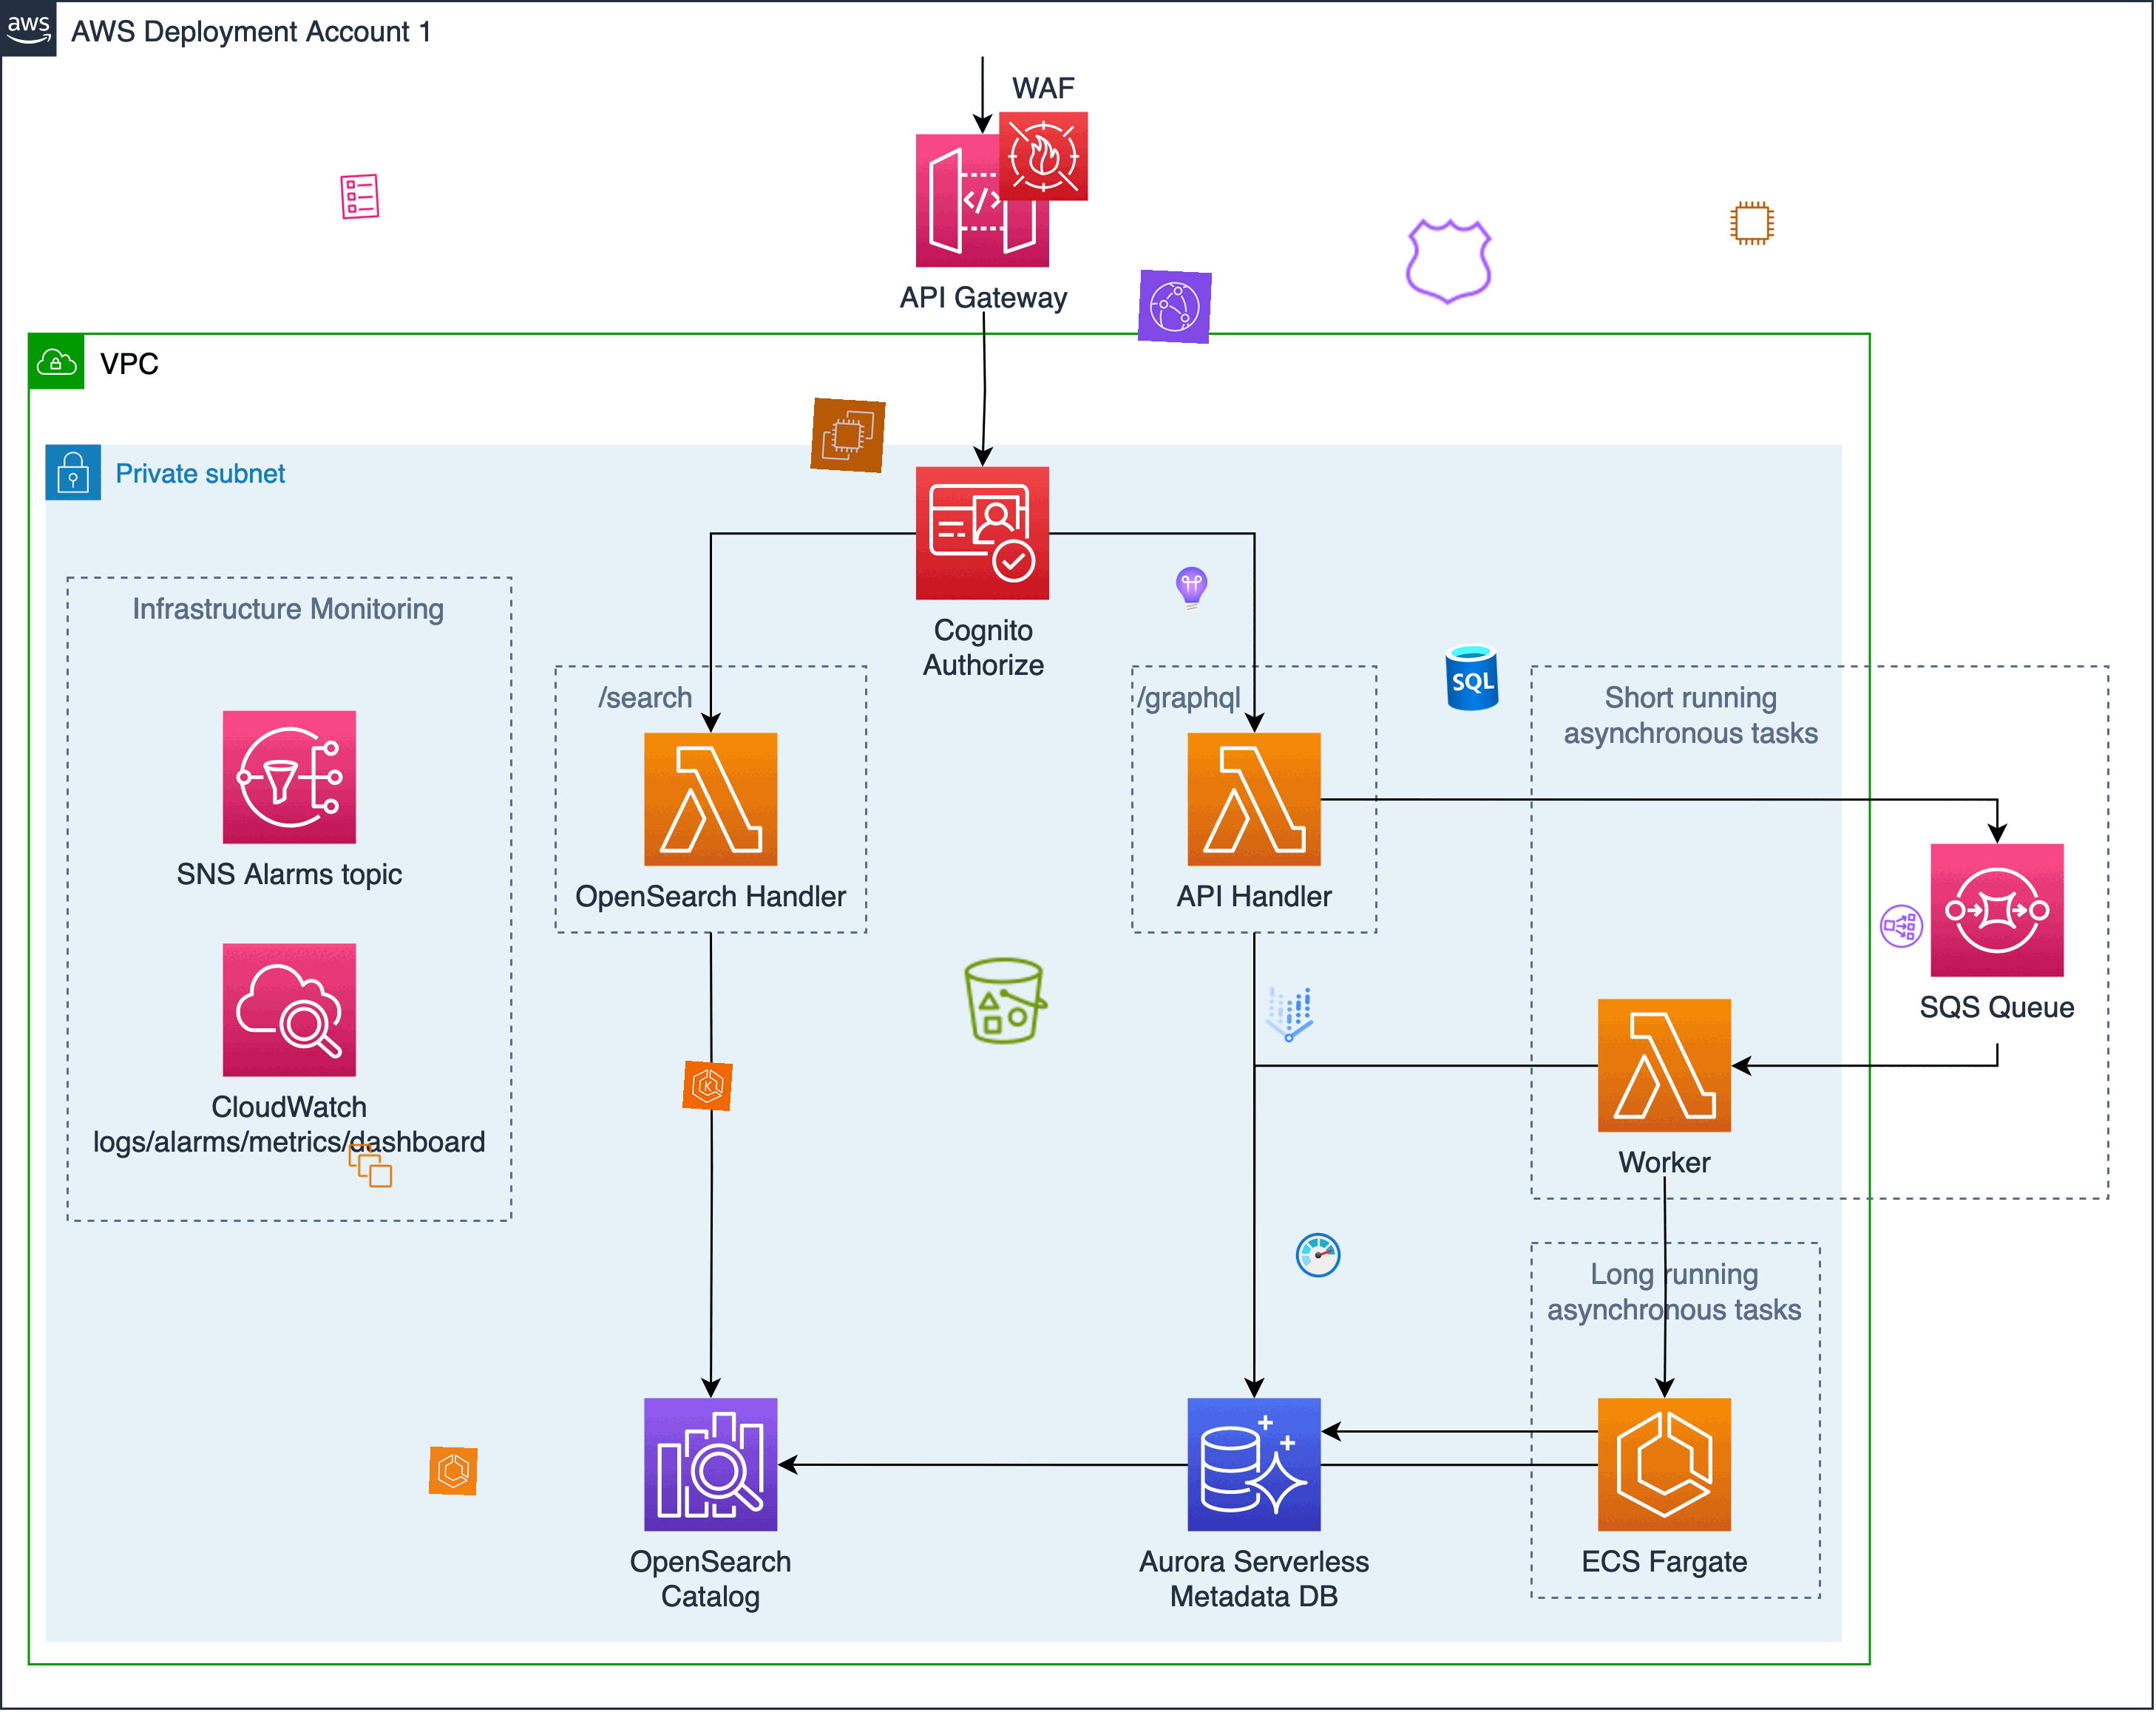aws_amazon_cloudfront: (1137, 269, 1213, 344)
aws_amazon_ec2: (810, 397, 885, 474)
aws_amazon_elastic_container_service: (429, 1446, 478, 1497)
aws_amazon_elastic_kubernetes_service: (682, 1060, 733, 1112)
aws_cloudformation_template: (334, 171, 385, 222)
aws_ec2_instance: (1727, 199, 1776, 248)
aws_ec2_instances: (346, 1142, 396, 1191)
aws_elastic_load_balancing_network_load_balancer: (1876, 901, 1927, 951)
aws_route_53_hosted_zone: (1400, 212, 1500, 311)
aws_simple_storage_service_bucket_with_objects: (959, 953, 1053, 1049)
azure_application_insights: (1167, 565, 1216, 614)
azure_monitor: (1293, 1229, 1344, 1280)
azure_sql_database: (1435, 640, 1510, 715)
gcp_vertex_ai: (1253, 979, 1326, 1051)
